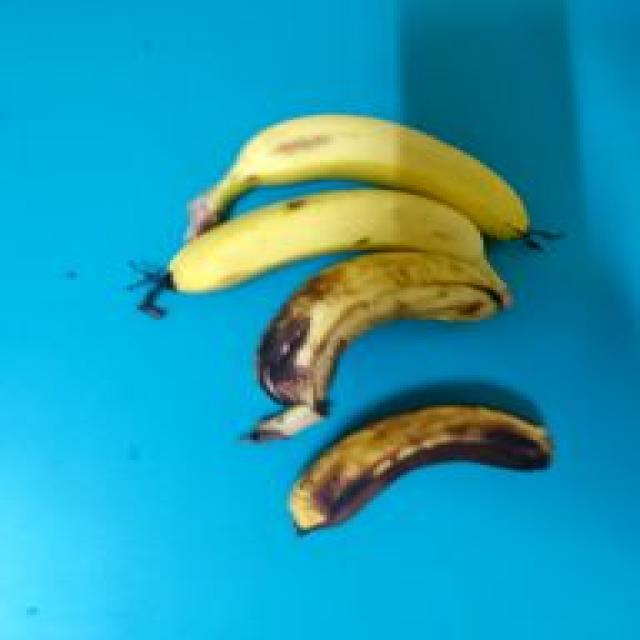Organik: (263, 383, 590, 555), (233, 235, 513, 433), (163, 110, 573, 231), (116, 189, 534, 289)
